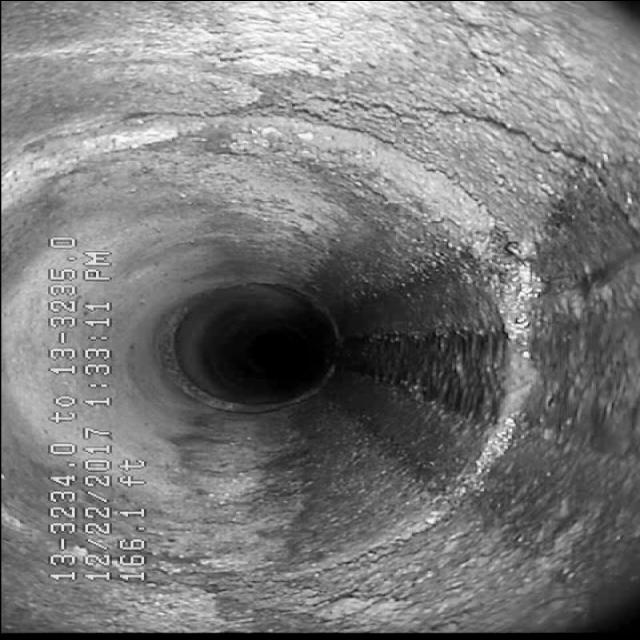Crack: (281, 58, 578, 222)
